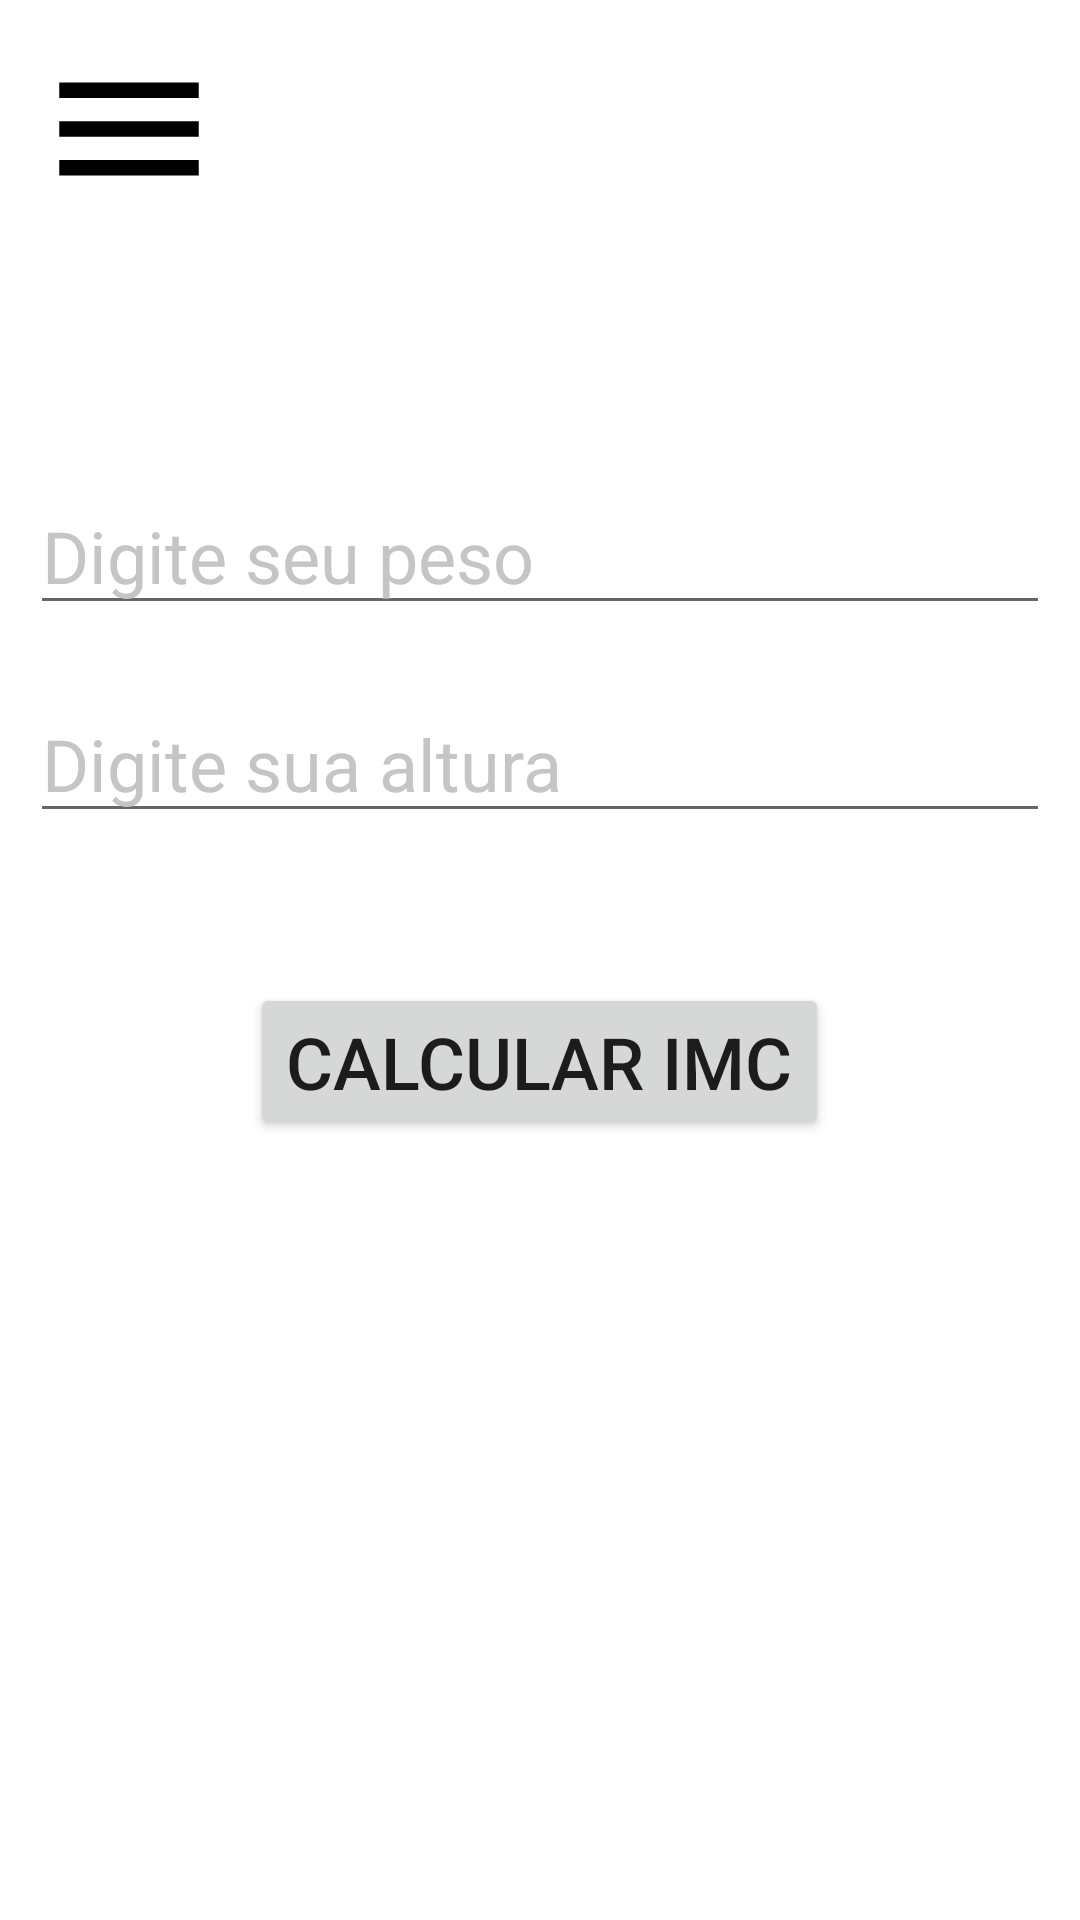

Screen size 1080px x 1920px. Icon name, then its center in pixels as (x=x, y=y):
menu: (x=129, y=129)
